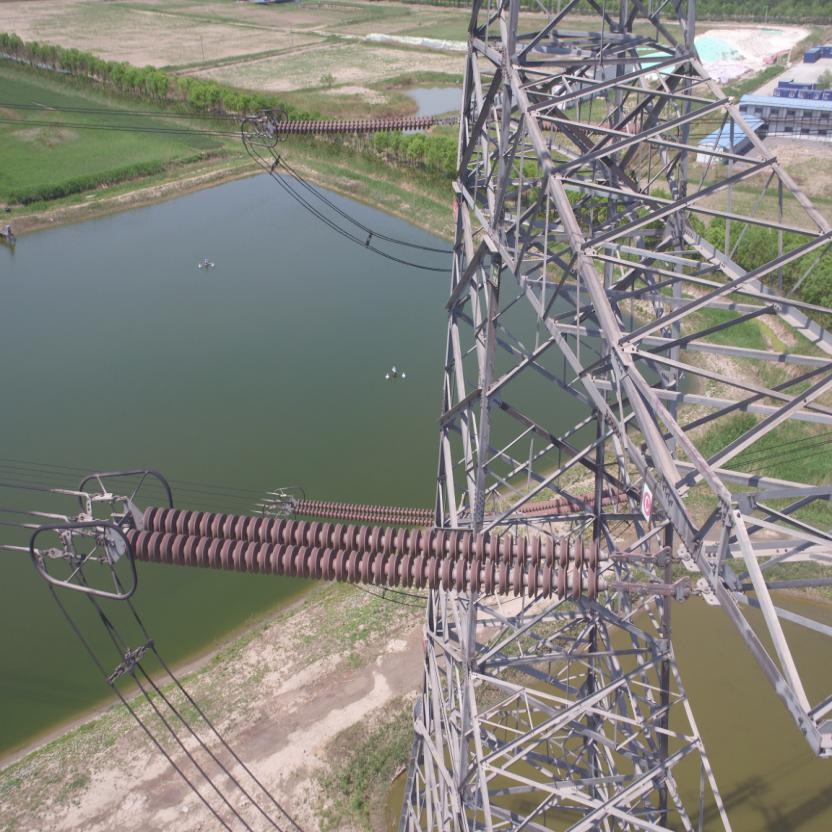insulator: (113, 501, 652, 601), (286, 497, 435, 526), (268, 113, 443, 133)
